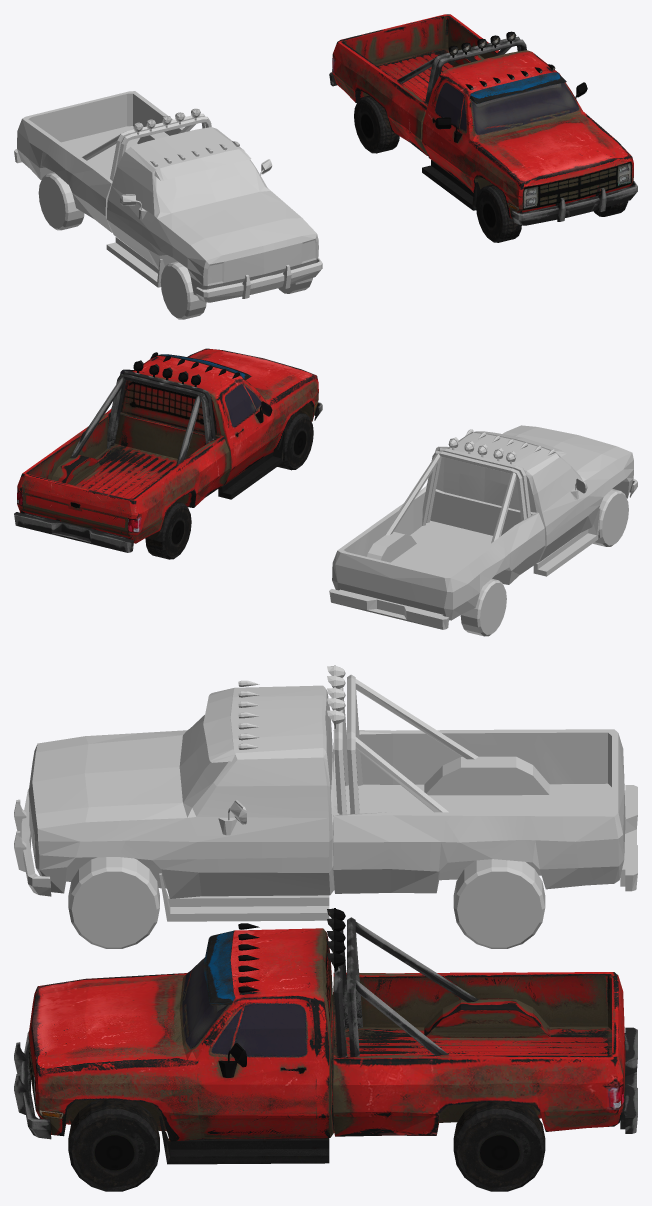
The model's file is truck.FBX.
3 views of the same model, one above another, from view 1: azimuth 30°, elevation 25°; view 2: azimuth 150°, elevation 25°; view 3: azimuth 270°, elevation 25° (orthographic). The views are drawn at different scales.
Visible parts, largest first — view 1: truck1, truck2; view 2: truck1, truck2; view 3: truck2, truck1.
Part boxes in pixels (x1,y1,x2,y2): truck1: (14, 91, 322, 319); truck2: (329, 14, 637, 242); truck1: (329, 425, 637, 636); truck2: (14, 348, 322, 559); truck2: (14, 908, 637, 1191); truck1: (14, 665, 637, 948).
Size of the model in its own units: 7.56 by 2.11 by 5.56.
